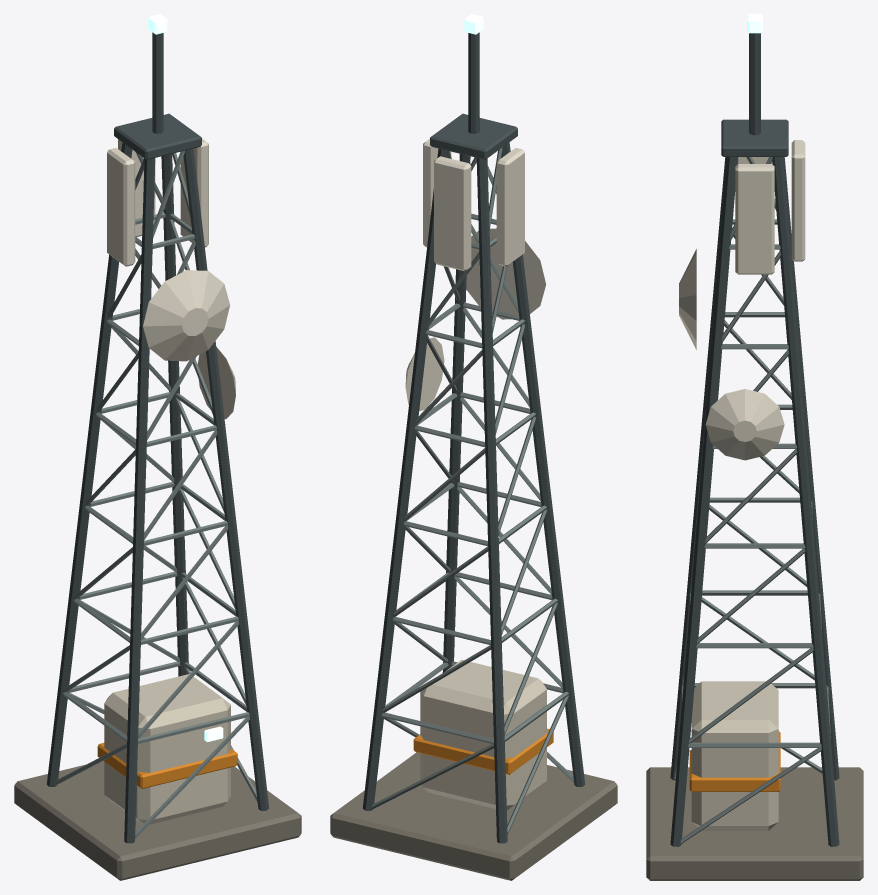
Rendered from fh_radio_mast.glb.
The picture shows the model from 3 angles, left to right: view 1: azimuth 30°, elevation 25°; view 2: azimuth 150°, elevation 25°; view 3: azimuth 270°, elevation 25°; orthographic projection.
Visible parts, largest first — view 1: fh_radio_mast; view 2: fh_radio_mast; view 3: fh_radio_mast.
Boxes of the visible parts, bbox=[...] form: fh_radio_mast: bbox=[14, 14, 301, 880]; fh_radio_mast: bbox=[330, 14, 617, 880]; fh_radio_mast: bbox=[646, 14, 863, 880].
Size of the model in its own units: 1.1 by 4.58 by 1.1.
